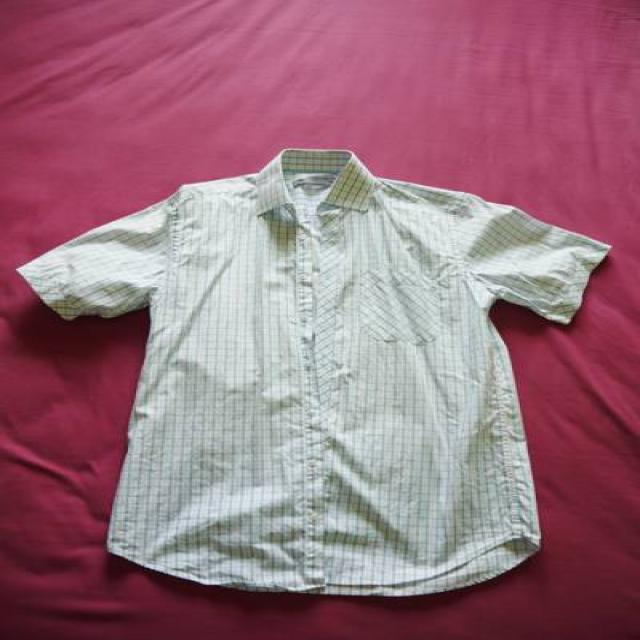Clothes -Biodegradable-: (15, 149, 609, 595)
